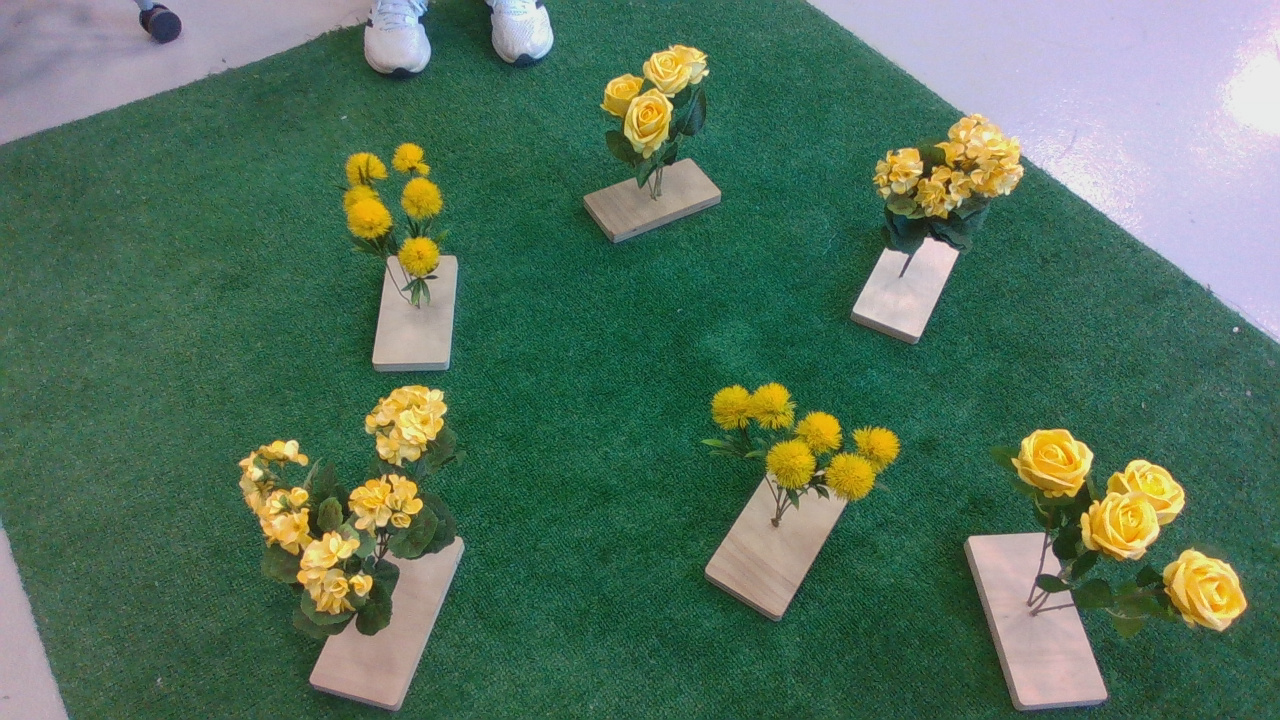dandelion: (681, 375, 914, 512), (330, 137, 466, 316)
geranium: (231, 384, 481, 651), (864, 118, 1045, 264)
rose: (985, 423, 1260, 647), (593, 44, 724, 198)
